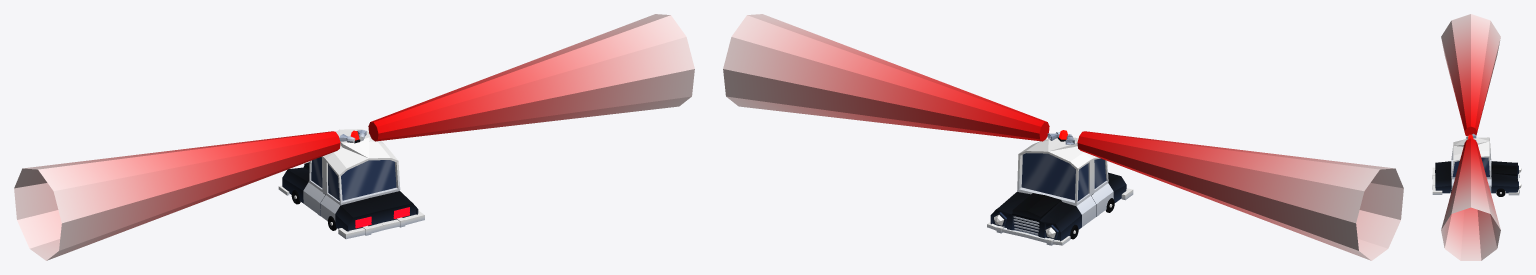
File: Police car.fbx
3 views of the same model, side by side, from view 1: azimuth 30°, elevation 25°; view 2: azimuth 150°, elevation 25°; view 3: azimuth 270°, elevation 25° (orthographic). The views are drawn at different scales.
Visible parts, largest first — view 1: Siren cone, Police car; view 2: Siren cone, Police car; view 3: Siren cone, Police car.
Part boxes in pixels (left/top/right/bottom): Siren cone: left=14, top=14, right=694, bottom=260; Police car: left=278, top=129, right=424, bottom=239; Siren cone: left=723, top=14, right=1403, bottom=260; Police car: left=987, top=130, right=1133, bottom=245; Siren cone: left=1441, top=14, right=1500, bottom=260; Police car: left=1432, top=133, right=1521, bottom=196.
Size of the model in its own units: 4473 by 814 by 874.
